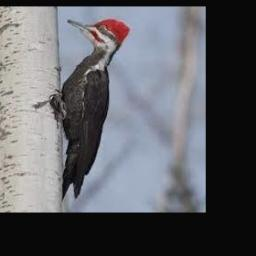Woodpecker: (53, 19, 130, 201)
